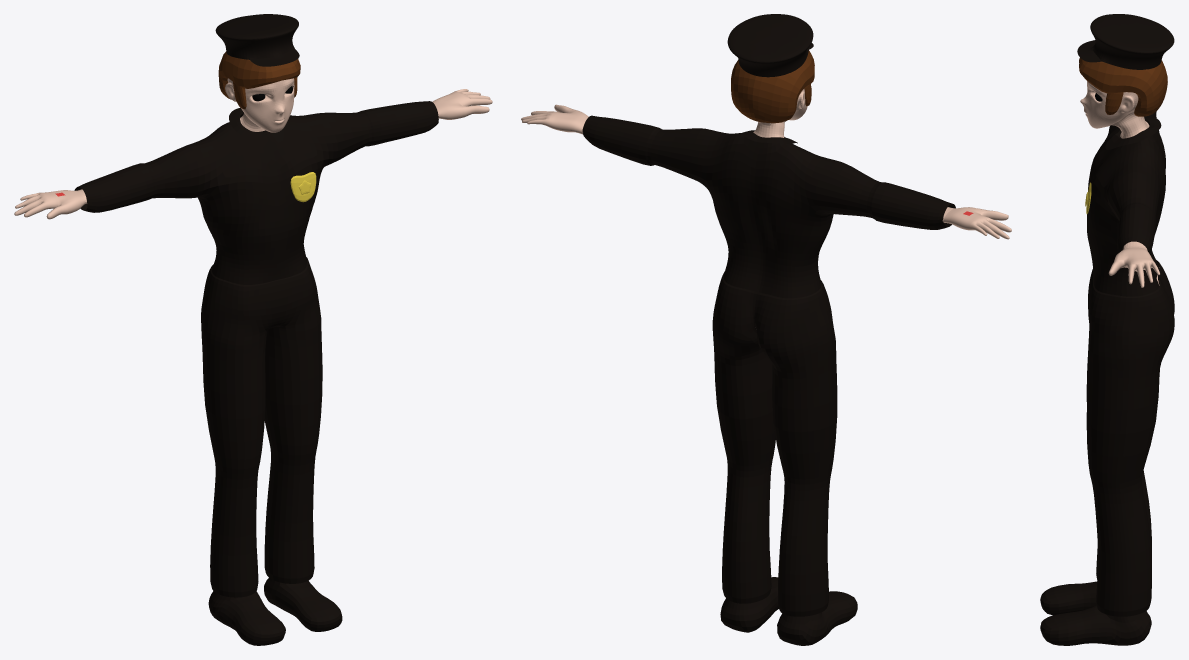
File: Overkill_NPC_base _male_cop.fbx
3 views of the same model, side by side, from view 1: azimuth 30°, elevation 25°; view 2: azimuth 150°, elevation 25°; view 3: azimuth 270°, elevation 25° (orthographic). The views are drawn at different scales.
Parts seen in each view (by area): view 1: Overkill_male_NPC.002; view 2: Overkill_male_NPC.002; view 3: Overkill_male_NPC.002.
Boxes of the visible parts, <box> form: Overkill_male_NPC.002: <box>14,14,492,645</box>; Overkill_male_NPC.002: <box>521,14,1011,645</box>; Overkill_male_NPC.002: <box>1040,14,1174,645</box>.
Bounding box in the file's own units: 491 × 584 × 118.
